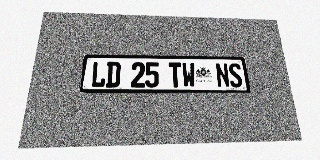2: (131, 62, 145, 87)
5: (145, 62, 159, 87)
D: (105, 62, 121, 87)
L: (90, 61, 107, 87)
N: (215, 63, 230, 87)
S: (228, 63, 243, 87)
T: (168, 62, 182, 87)
W: (182, 62, 196, 87)
